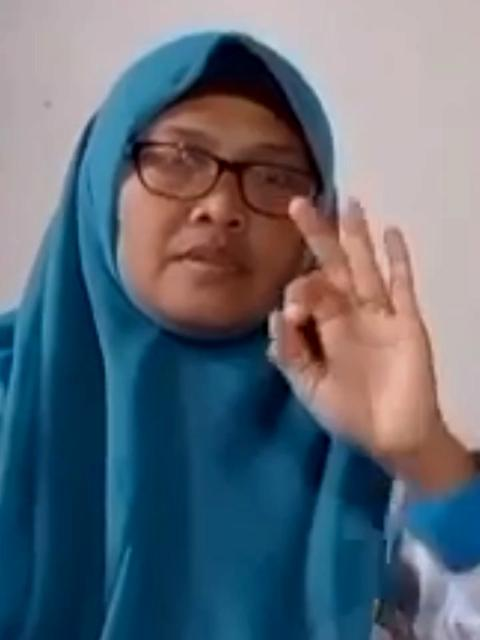F: (262, 194, 448, 452)
